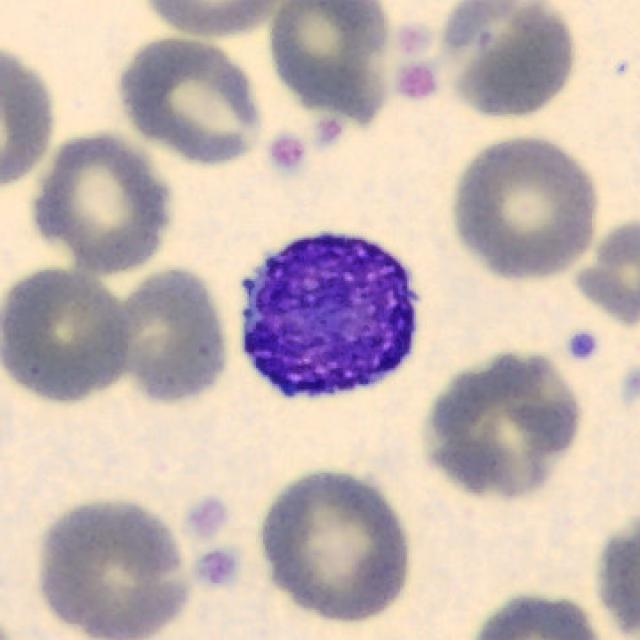Linfocito: (242, 233, 418, 398)
